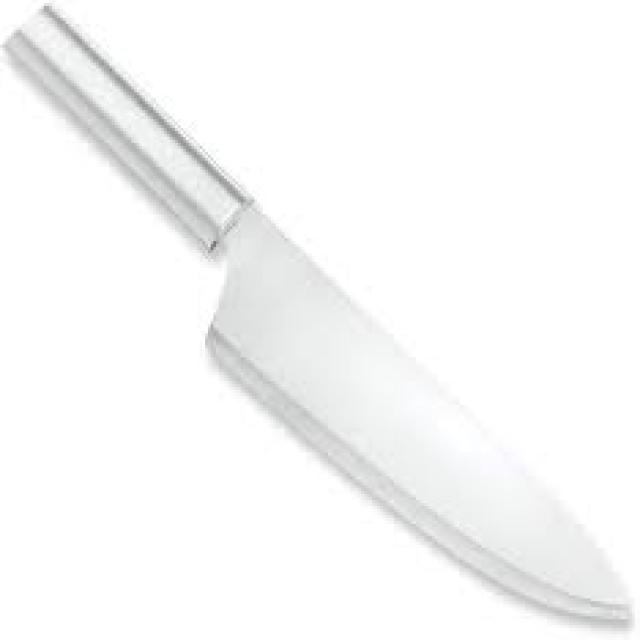Knife: (0, 0, 632, 622)
